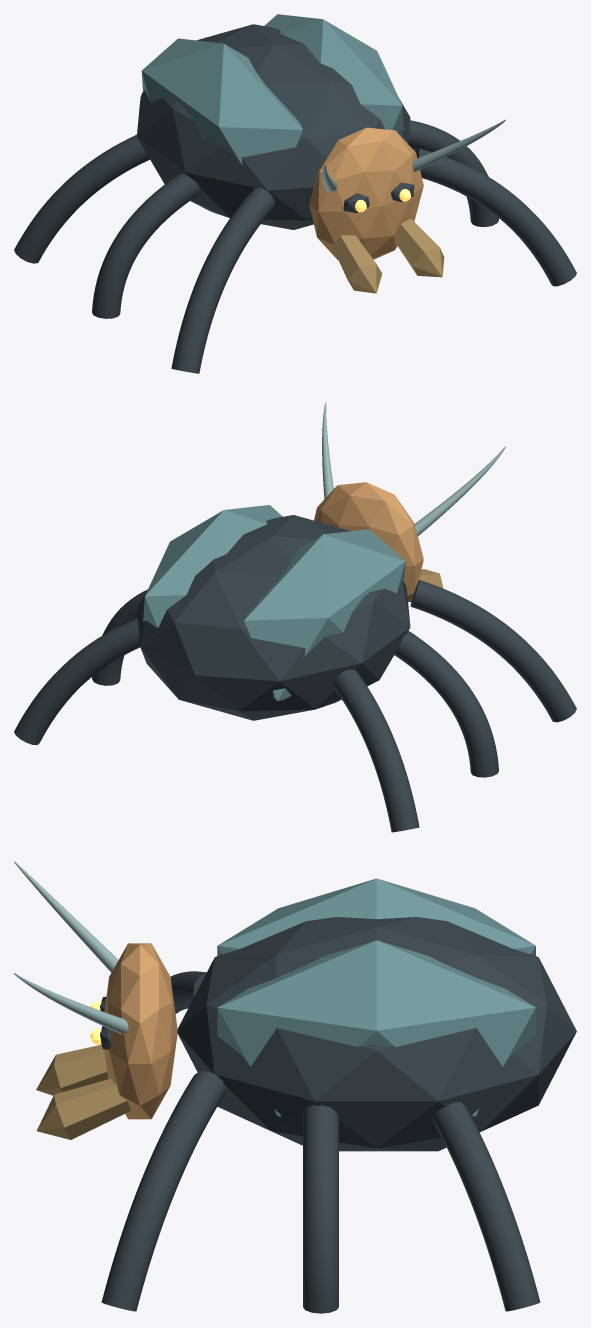
File: glass_mite.glb
The picture shows the model from 3 angles, top to bottom: view 1: azimuth 30°, elevation 25°; view 2: azimuth 150°, elevation 25°; view 3: azimuth 270°, elevation 25°; orthographic projection. The views are drawn at different scales.
Parts seen in each view (by area): view 1: glass_mite; view 2: glass_mite; view 3: glass_mite.
Part boxes in pixels (<box>): glass_mite: <box>14,14,576,373</box>; glass_mite: <box>14,402,576,832</box>; glass_mite: <box>14,861,576,1313</box>.
Bounding box in the file's own units: 0.8519 × 0.4543 × 0.8082.
